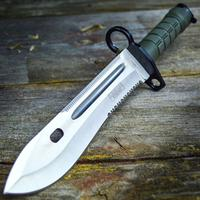knife: (1, 8, 190, 197)
